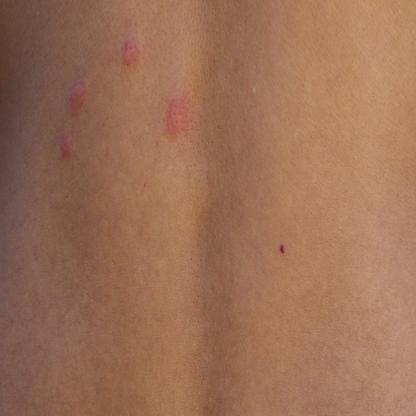Bed Bug: (162, 91, 195, 147), (63, 73, 89, 125), (118, 32, 145, 79), (57, 130, 75, 161)
